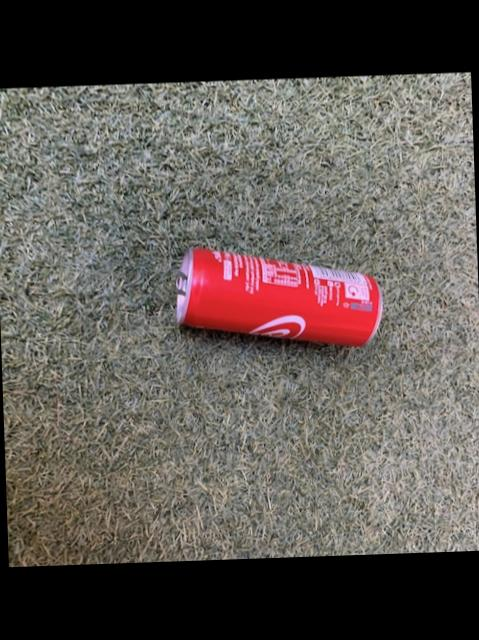metal: (178, 250, 382, 347)
